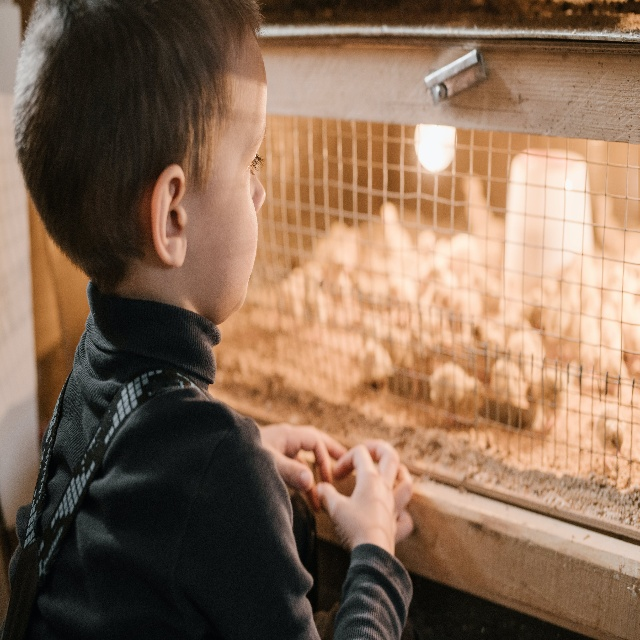Sin_guantes: (316, 438, 415, 554), (259, 423, 348, 511)
